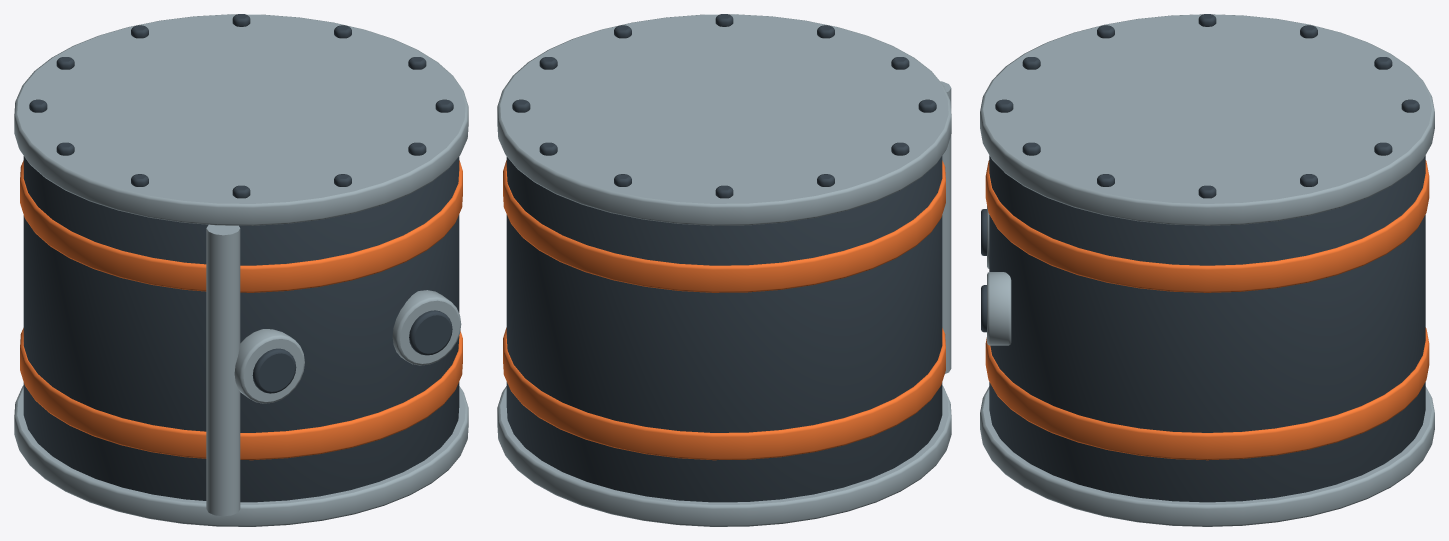
Rendered from ballastLarge.glb.
3 views of the same model, side by side, from view 1: azimuth 30°, elevation 25°; view 2: azimuth 150°, elevation 25°; view 3: azimuth 270°, elevation 25° (orthographic).
Parts seen in each view (by area): view 1: ballastLarge; view 2: ballastLarge; view 3: ballastLarge.
Part boxes in pixels (x1=…): ballastLarge: x1=14, y1=14, x2=468, y2=526; ballastLarge: x1=497, y1=14, x2=951, y2=526; ballastLarge: x1=980, y1=14, x2=1434, y2=526.
Size of the model in its own units: 5 by 4 by 5.
